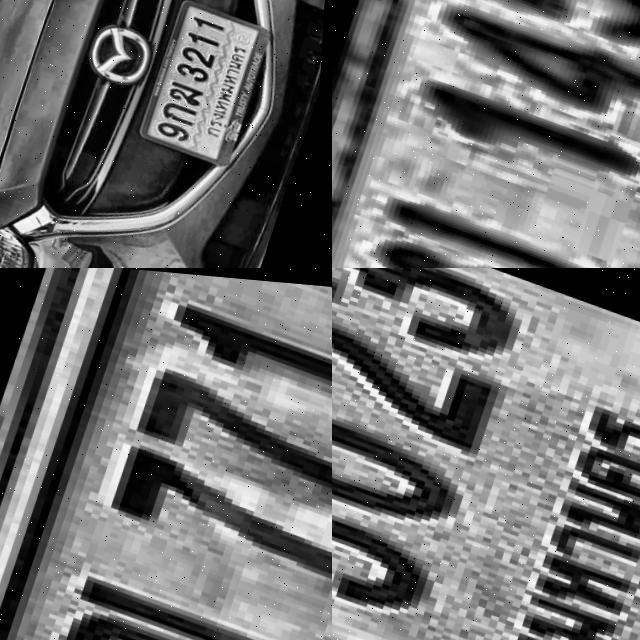license-plate: (0, 268, 332, 640), (332, 268, 640, 640), (332, 0, 640, 268), (139, 0, 280, 160)
